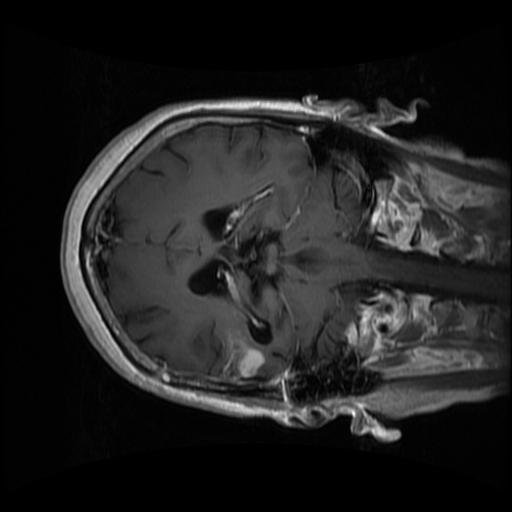glioma: (222, 328, 267, 383)
